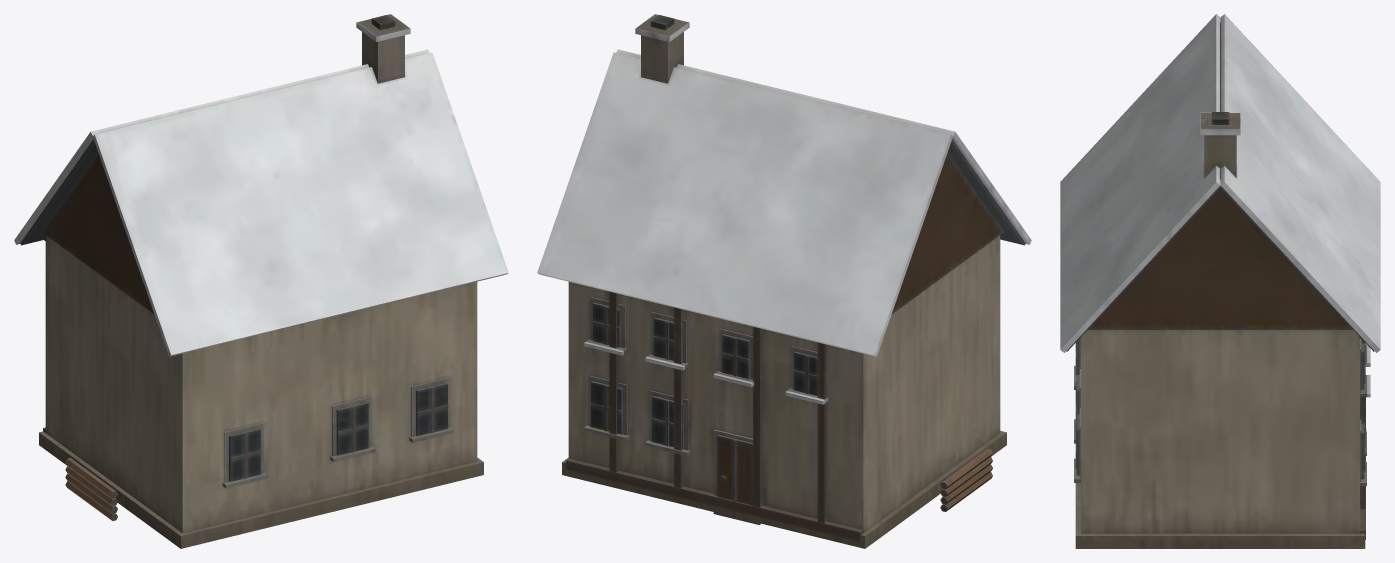
Rendered from house_ardennes_baked.glb.
The picture shows the model from 3 angles, left to right: view 1: azimuth 30°, elevation 25°; view 2: azimuth 150°, elevation 25°; view 3: azimuth 270°, elevation 25°; orthographic projection. The views are drawn at different scales.
Parts seen in each view (by area): view 1: x, snow_cap; view 2: x, snow_cap; view 3: x, snow_cap.
Part boxes in pixels (left/top/right/bottom): x: left=20, top=14, right=483, bottom=548; snow_cap: left=14, top=14, right=508, bottom=356; x: left=562, top=14, right=1025, bottom=548; snow_cap: left=537, top=14, right=1031, bottom=404; x: left=1066, top=22, right=1374, bottom=548; snow_cap: left=1060, top=14, right=1380, bottom=397.
Size of the model in its own units: 9.7 by 11.01 by 7.57.
Materials: 1 (1 with a texture image).
